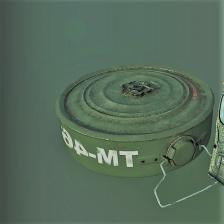TM-46: (33, 59, 224, 218)
